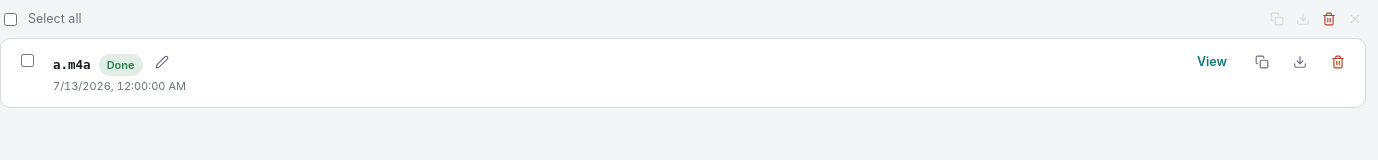
HistoryView › renaming › Escape cancels without saving
This screenshot has width=1378, height=160.
Expected: the text "a.m4a" is shown, [53, 56, 91, 75]
Click the button named "Rename" at (162, 62), box [150, 51, 172, 73]
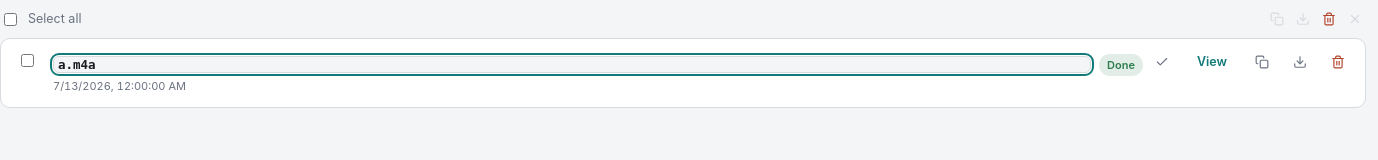
Replace the text in the field named "Rename" with "abandoned edit" at (572, 64), box [53, 56, 1091, 73]
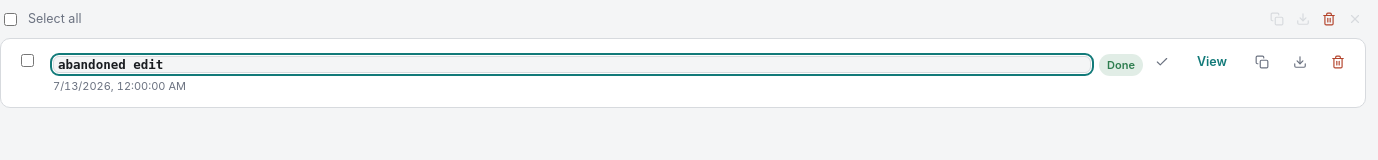
Press Escape in the field named "Rename", box [53, 56, 1091, 73]
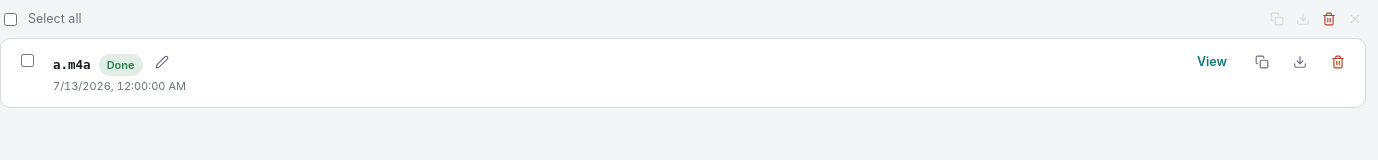
Expected: the text "a.m4a" is shown, [53, 56, 91, 75]
